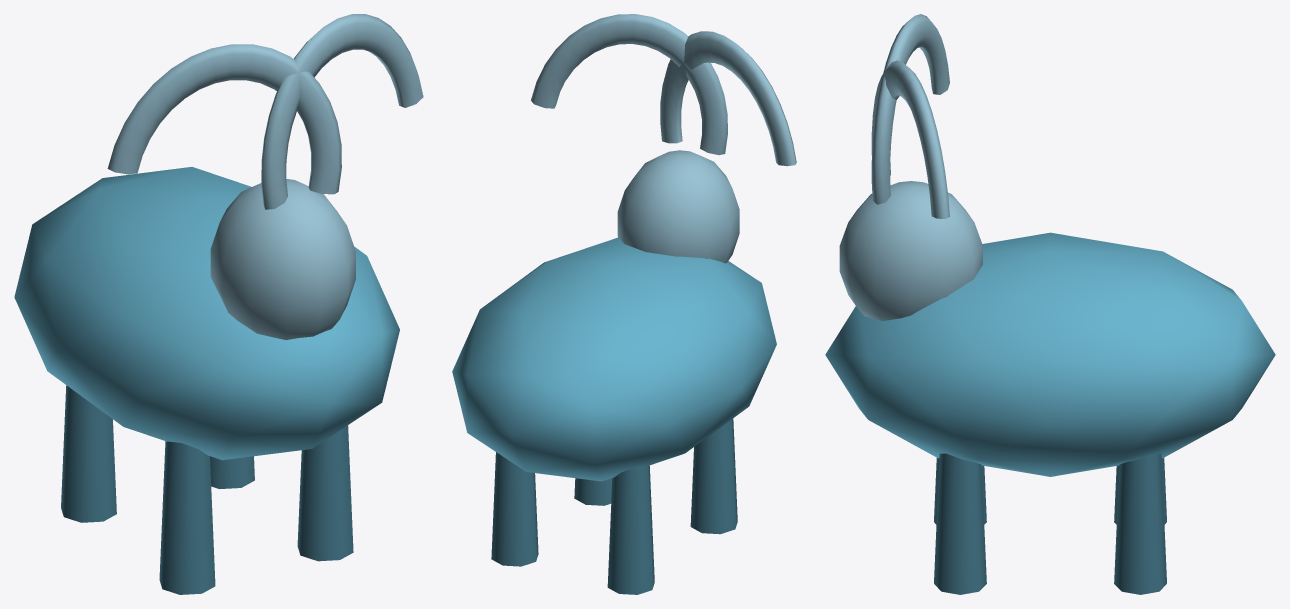
File: snow_boss.glb
The picture shows the model from 3 angles, left to right: view 1: azimuth 30°, elevation 25°; view 2: azimuth 150°, elevation 25°; view 3: azimuth 270°, elevation 25°; orthographic projection. The views are drawn at different scales.
Visible parts, largest first — view 1: BOSS_snow_stag_body, BOSS_snow_stag_head, BOSS_snow_stag_antler_-1, BOSS_snow_stag_antler_1, BOSS_snow_stag_leg_-1_front, BOSS_snow_stag_leg_1_front, BOSS_snow_stag_leg_-1_rear, BOSS_snow_stag_leg_1_rear; view 2: BOSS_snow_stag_body, BOSS_snow_stag_head, BOSS_snow_stag_antler_1, BOSS_snow_stag_antler_-1, BOSS_snow_stag_leg_-1_rear, BOSS_snow_stag_leg_1_rear, BOSS_snow_stag_leg_-1_front, BOSS_snow_stag_leg_1_front; view 3: BOSS_snow_stag_body, BOSS_snow_stag_head, BOSS_snow_stag_leg_1_front, BOSS_snow_stag_leg_1_rear, BOSS_snow_stag_antler_-1, BOSS_snow_stag_antler_1.
Boxes of the visible parts, box(x1,y1,x2,y2) form: BOSS_snow_stag_body: box(14, 167, 399, 460); BOSS_snow_stag_head: box(210, 179, 355, 339); BOSS_snow_stag_antler_-1: box(107, 44, 341, 194); BOSS_snow_stag_antler_1: box(261, 14, 423, 209); BOSS_snow_stag_leg_-1_front: box(159, 441, 215, 594); BOSS_snow_stag_leg_1_front: box(297, 425, 353, 561); BOSS_snow_stag_leg_-1_rear: box(61, 385, 116, 522); BOSS_snow_stag_leg_1_rear: box(210, 456, 254, 488); BOSS_snow_stag_body: box(452, 237, 776, 481); BOSS_snow_stag_head: box(617, 150, 739, 263); BOSS_snow_stag_antler_1: box(531, 14, 727, 155); BOSS_snow_stag_antler_-1: box(660, 31, 796, 166); BOSS_snow_stag_leg_-1_rear: box(607, 465, 654, 594); BOSS_snow_stag_leg_1_rear: box(491, 452, 538, 566); BOSS_snow_stag_leg_-1_front: box(690, 418, 737, 534); BOSS_snow_stag_leg_1_front: box(574, 478, 612, 505); BOSS_snow_stag_body: box(825, 232, 1275, 476); BOSS_snow_stag_head: box(839, 181, 982, 320); BOSS_snow_stag_leg_1_front: box(934, 453, 986, 594); BOSS_snow_stag_leg_1_rear: box(1114, 453, 1166, 594); BOSS_snow_stag_antler_-1: box(871, 14, 949, 204); BOSS_snow_stag_antler_1: box(871, 60, 949, 218).
Size of the model in its own units: 2.5 by 4.23 by 3.4.
